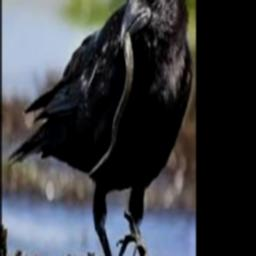Crow: (6, 0, 193, 256)
